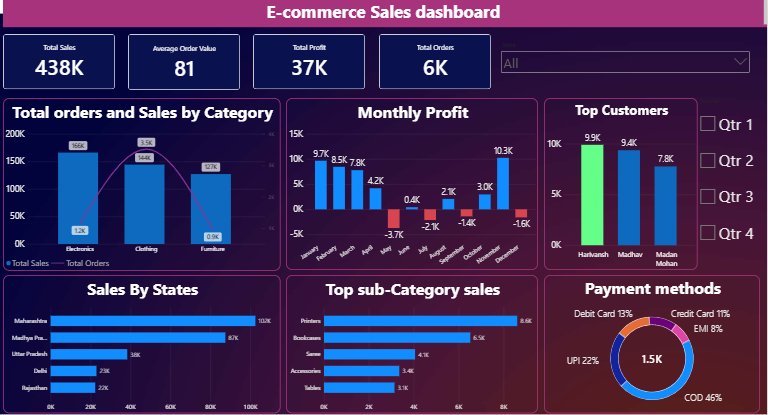

The dashboard page shown, as its layout file describes it:
{"tool":"powerbi","page":{"name":"Page 1","canvas":[1920,1080],"ordinal":0},"visuals":[{"type":"textbox","box":[10,0,1910,68],"z":0},{"type":"columnChart","title":"Monthly Profit","fields":{"Category":["Orders.Order Date.Variation.Date Hierarchy.Month"],"Y":["Sum(Details.Profit)"]},"box":[718,246,630,430],"z":1000},{"type":"donutChart","title":"Payment methods","fields":{"Category":["Details.PaymentMode"],"Y":["CountNonNull(Details.PaymentMode)"]},"box":[1362,688,540,346],"z":2000},{"type":"cardVisual","fields":{"Data":["Sum(Details.Amount)"]},"box":[10,84,280,138],"z":3000},{"type":"cardVisual","fields":{"Data":["Sum(Details.Quantity)"]},"box":[950,84,280,138],"z":4000},{"type":"cardVisual","fields":{"Data":["Sum(Details.Profit)"]},"box":[634,84,280,138],"z":5000},{"type":"cardVisual","fields":{"Data":["Avg(Details.ave)"]},"box":[322,84,280,140],"z":6000},{"type":"barChart","title":"Top sub-Category sales","fields":{"Category":["Details.Sub-Category"],"Y":["Sum(Details.Profit)"]},"box":[718,688,630,346],"z":7000},{"type":"barChart","title":"Sales By States ","fields":{"Category":["Orders.State"],"Y":["Sum(Details.Amount)"]},"box":[10,688,694,346],"z":8000},{"type":"lineClusteredColumnComboChart","title":"Total orders and Sales by Category","fields":{"Category":["Details.Category"],"Y":["Sum(Details.Amount)"],"Y2":["Sum(Details.Quantity)"]},"box":[10,246,694,432],"z":9000},{"type":"slicer","fields":{"Values":["Orders.Order Date.Variation.Date Hierarchy.Quarter"]},"box":[1745,245,174,418],"z":10000},{"type":"slicer","fields":{"Values":["Orders.State"]},"box":[1250,105,632,140],"z":11000},{"type":"columnChart","title":"Top Customers","fields":{"Category":["Orders.CustomerName"],"Y":["Sum(Details.Amount)"]},"box":[1362,246,384,430],"z":12000}]}

Visuals, with their boxes on the page's 1920x1080 design canvas (x1, y1, x2, y2). These are canvas units, not pixel positions in the 768x415 screenshot, which may show the page scaled, cropped or inside an application window:
textbox: select_region(10, 0, 1920, 68)
"Monthly Profit" columnChart: select_region(718, 246, 1348, 676)
"Payment methods" donutChart: select_region(1362, 688, 1902, 1034)
cardVisual - Sum(Details.Amount): select_region(10, 84, 290, 222)
cardVisual - Sum(Details.Quantity): select_region(950, 84, 1230, 222)
cardVisual - Sum(Details.Profit): select_region(634, 84, 914, 222)
cardVisual - Avg(Details.ave): select_region(322, 84, 602, 224)
"Top sub-Category sales" barChart: select_region(718, 688, 1348, 1034)
"Sales By States " barChart: select_region(10, 688, 704, 1034)
"Total orders and Sales by Category" lineClusteredColumnComboChart: select_region(10, 246, 704, 678)
slicer - Orders.Order Date.Variation.Date Hierarchy.Quarter: select_region(1745, 245, 1919, 663)
slicer - Orders.State: select_region(1250, 105, 1882, 245)
"Top Customers" columnChart: select_region(1362, 246, 1746, 676)
